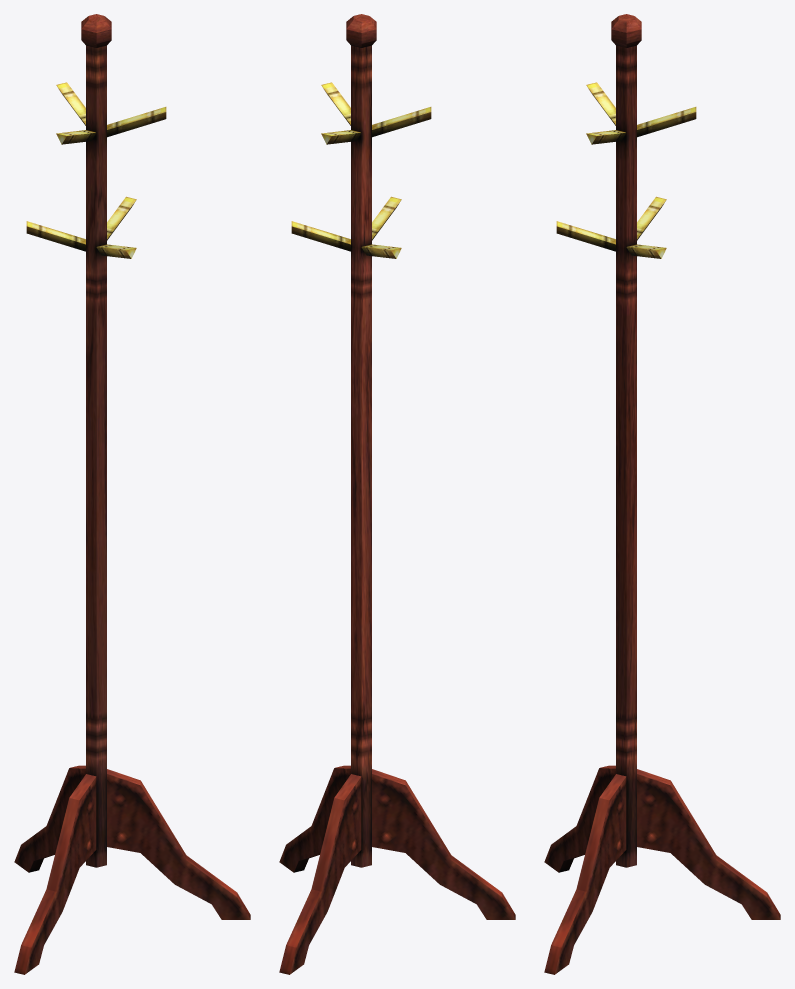
The model's file is coat_rack2.fbx.
3 views of the same model, side by side, from view 1: azimuth 30°, elevation 25°; view 2: azimuth 150°, elevation 25°; view 3: azimuth 270°, elevation 25° (orthographic).
Parts seen in each view (by area): view 1: mesh_0; view 2: mesh_0; view 3: mesh_0.
Boxes of the visible parts, bbox=[...] form: mesh_0: bbox=[14, 14, 250, 974]; mesh_0: bbox=[279, 14, 515, 974]; mesh_0: bbox=[544, 14, 780, 974].
Bounding box in the file's own units: 55.27 × 201 × 47.86.
Materials: 1 (1 with a texture image).
